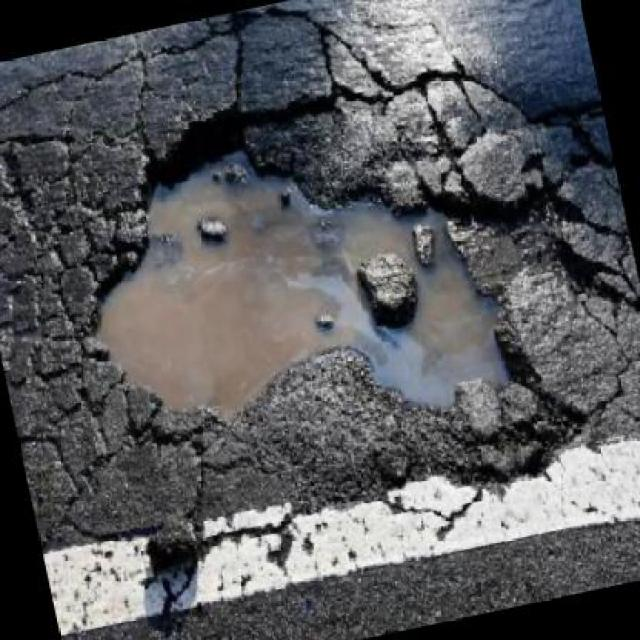pothole1: (38, 35, 600, 560)
